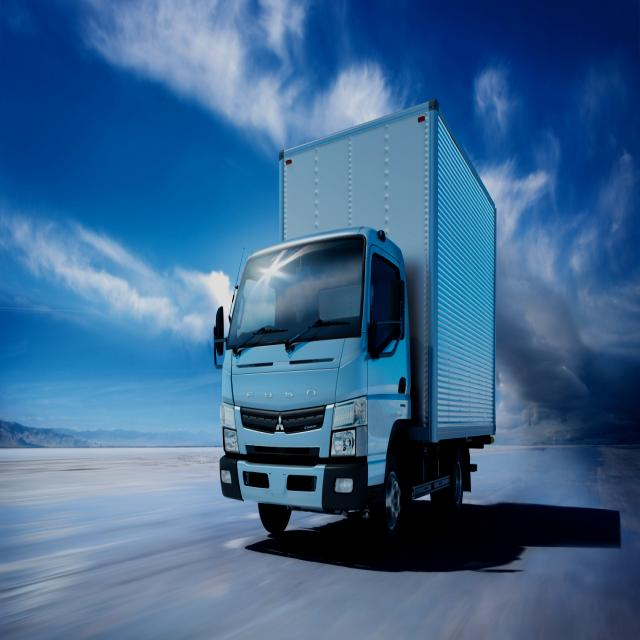truck: (216, 97, 502, 540)
